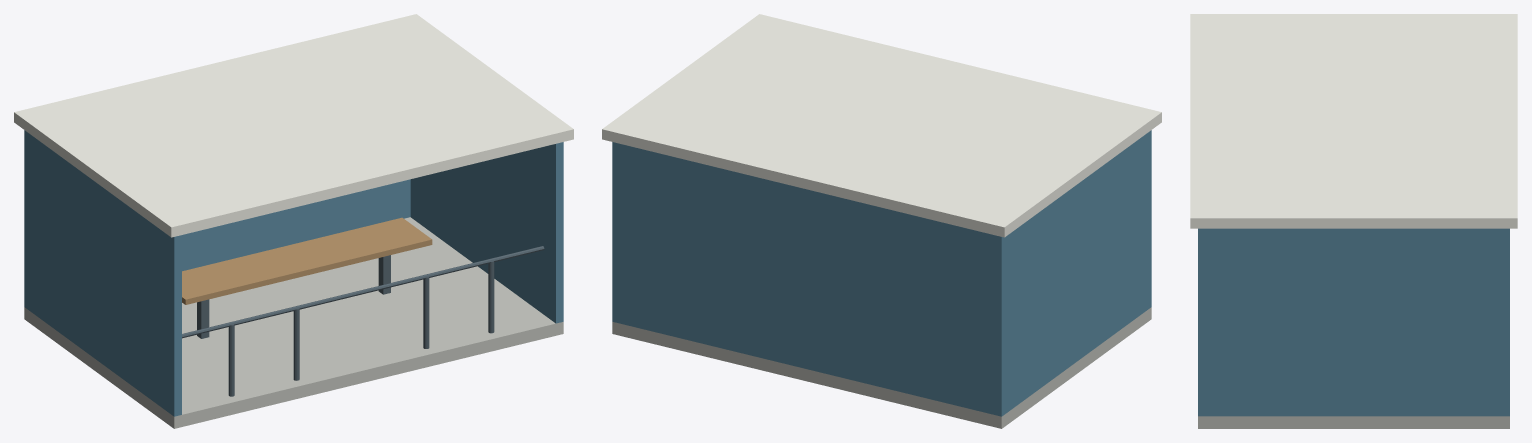
Rendered from american-football-stadium-kit-hospitality-suite-4c7d28d3__22351.glb.
The picture shows the model from 3 angles, left to right: view 1: azimuth 30°, elevation 25°; view 2: azimuth 150°, elevation 25°; view 3: azimuth 270°, elevation 25°; orthographic projection. The views are drawn at different scales.
Parts seen in each view (by area): view 1: hospitality-suite; view 2: hospitality-suite; view 3: hospitality-suite.
Boxes of the visible parts, <box> form: hospitality-suite: <box>14,14,573,428</box>; hospitality-suite: <box>602,14,1161,428</box>; hospitality-suite: <box>1190,14,1517,428</box>.
Bounding box in the file's own units: 6.2 × 3.03 × 4.2.
